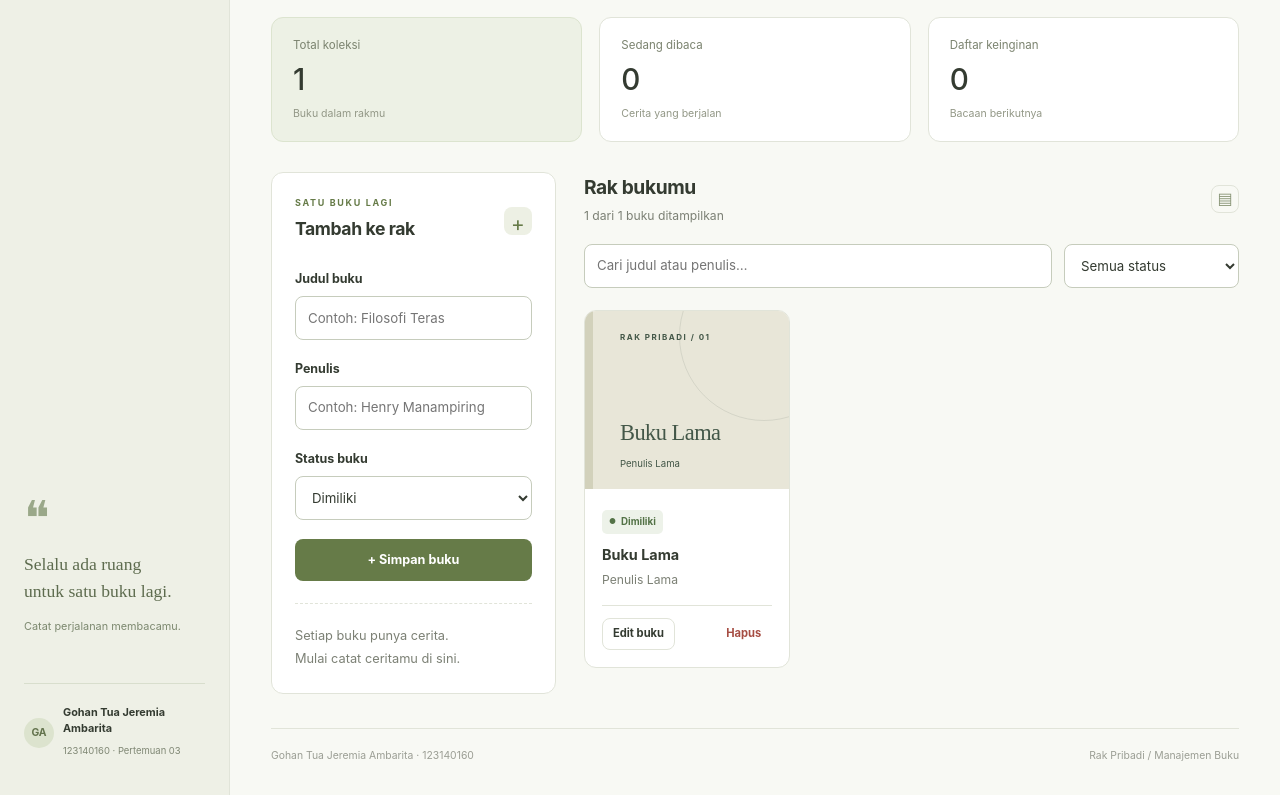
Test case: mengedit buku dan mempertahankan ID serta tanggal pencatatan
(page scrolled)
Click the button with aria-label "Edit Buku Lama".
click(639, 634)  # box [602, 618, 675, 650]
(page scrolled)
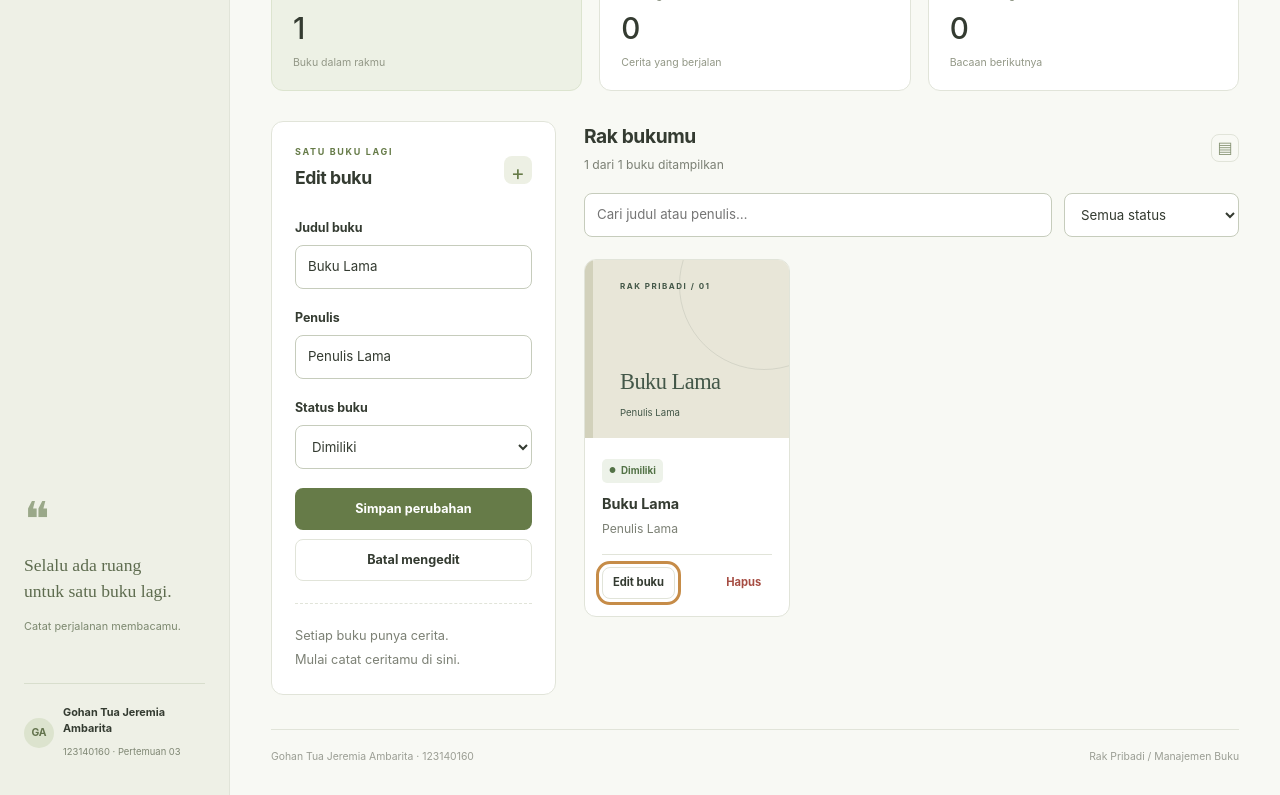
Replace the text in the field labelled "Judul buku" with "Buku Baru" at coordinates (414, 267), box [295, 245, 532, 289]
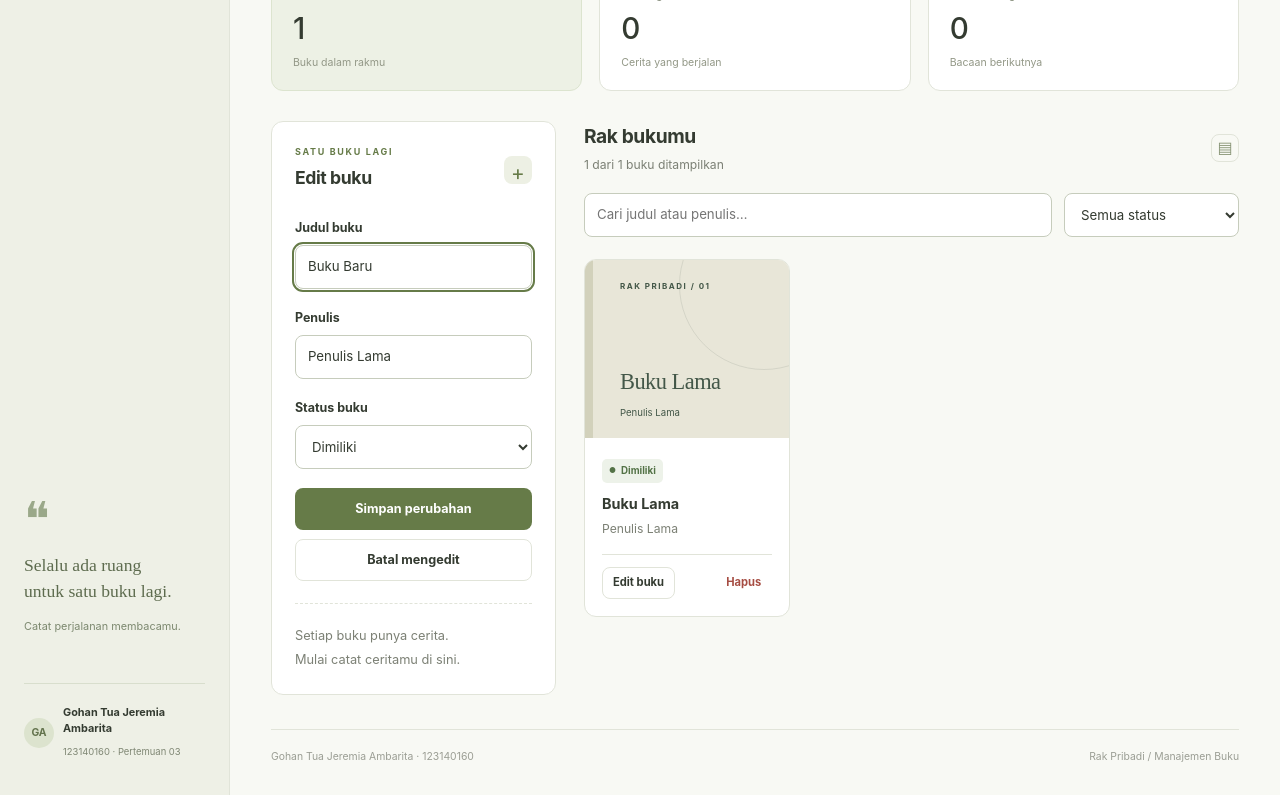
Replace the text in the field labelled "Penulis" with "Penulis Baru" at coordinates (414, 357), box [295, 335, 532, 379]
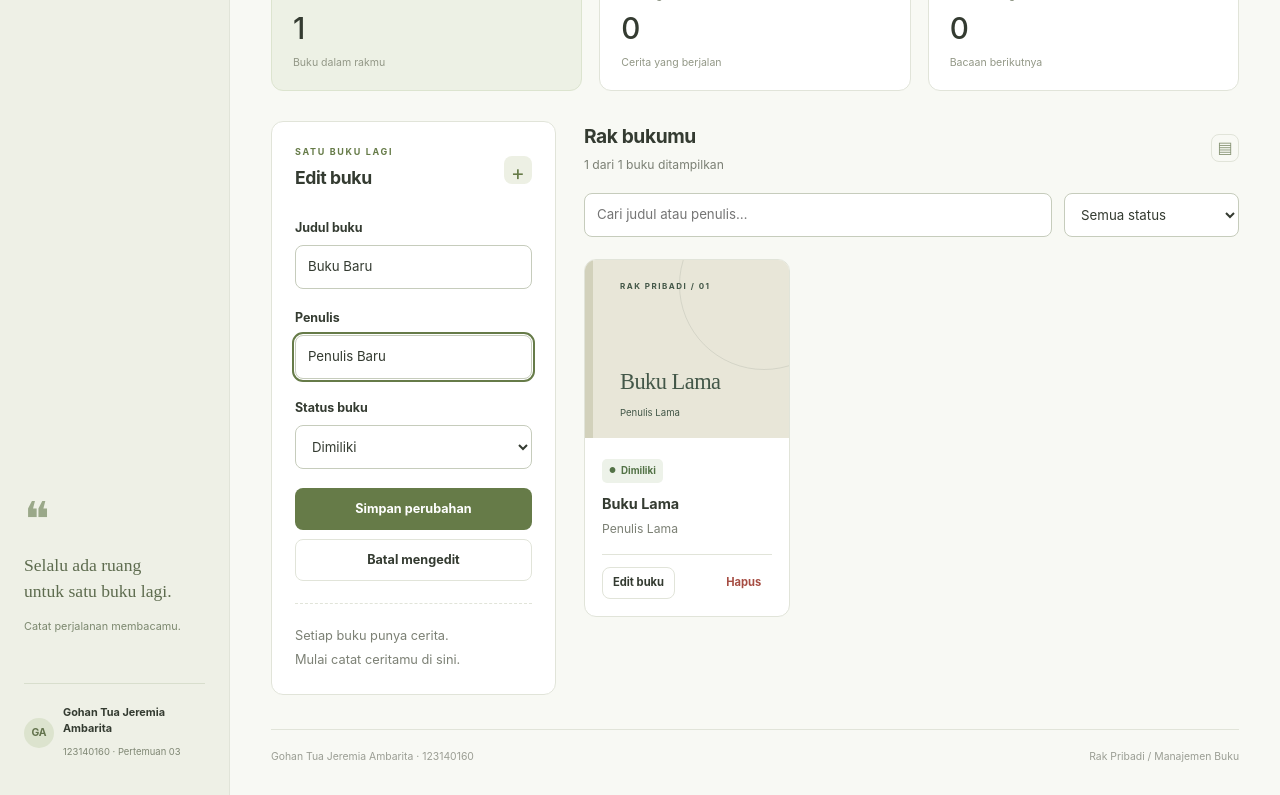
Select "Ingin dibeli" in the dropdown labelled "Status buku" at coordinates (414, 447), box [295, 425, 532, 469]
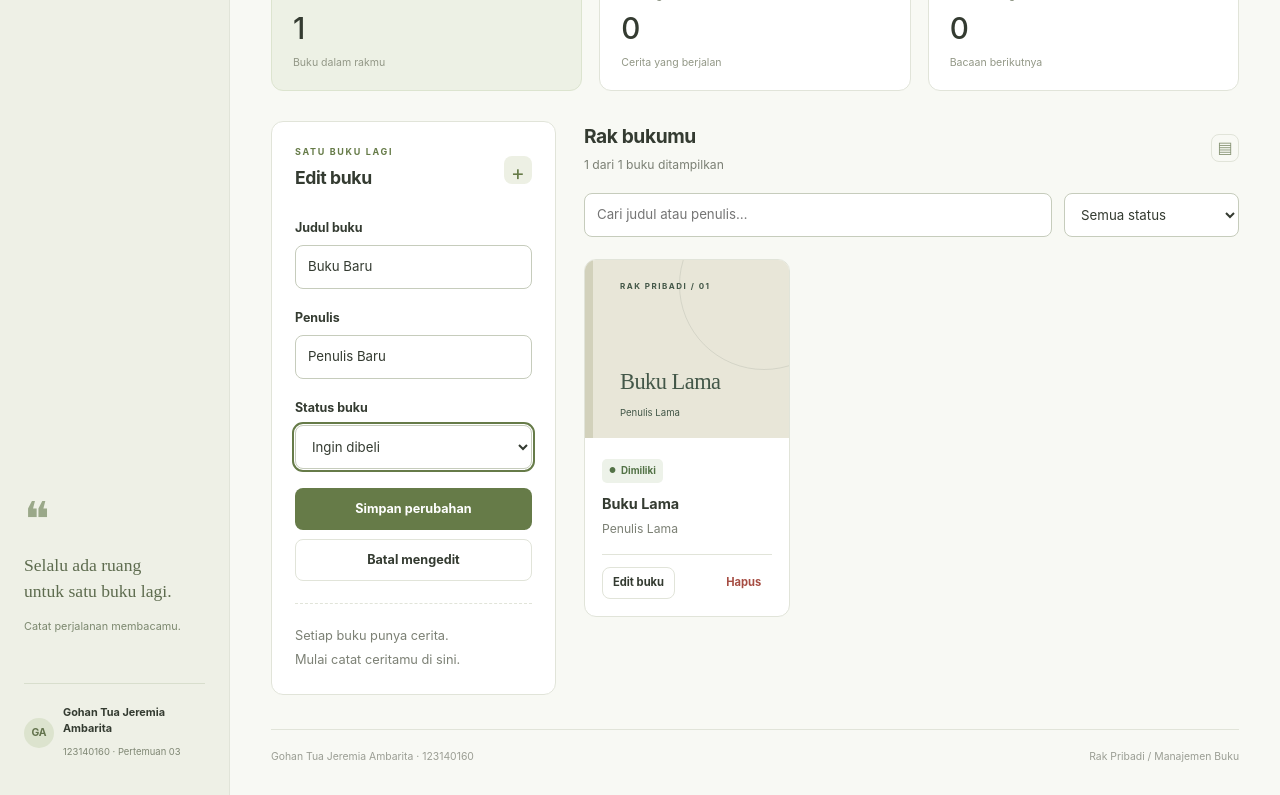
Click the button "Simpan perubahan".
click(414, 509)  # box [295, 488, 532, 530]
(page scrolled)
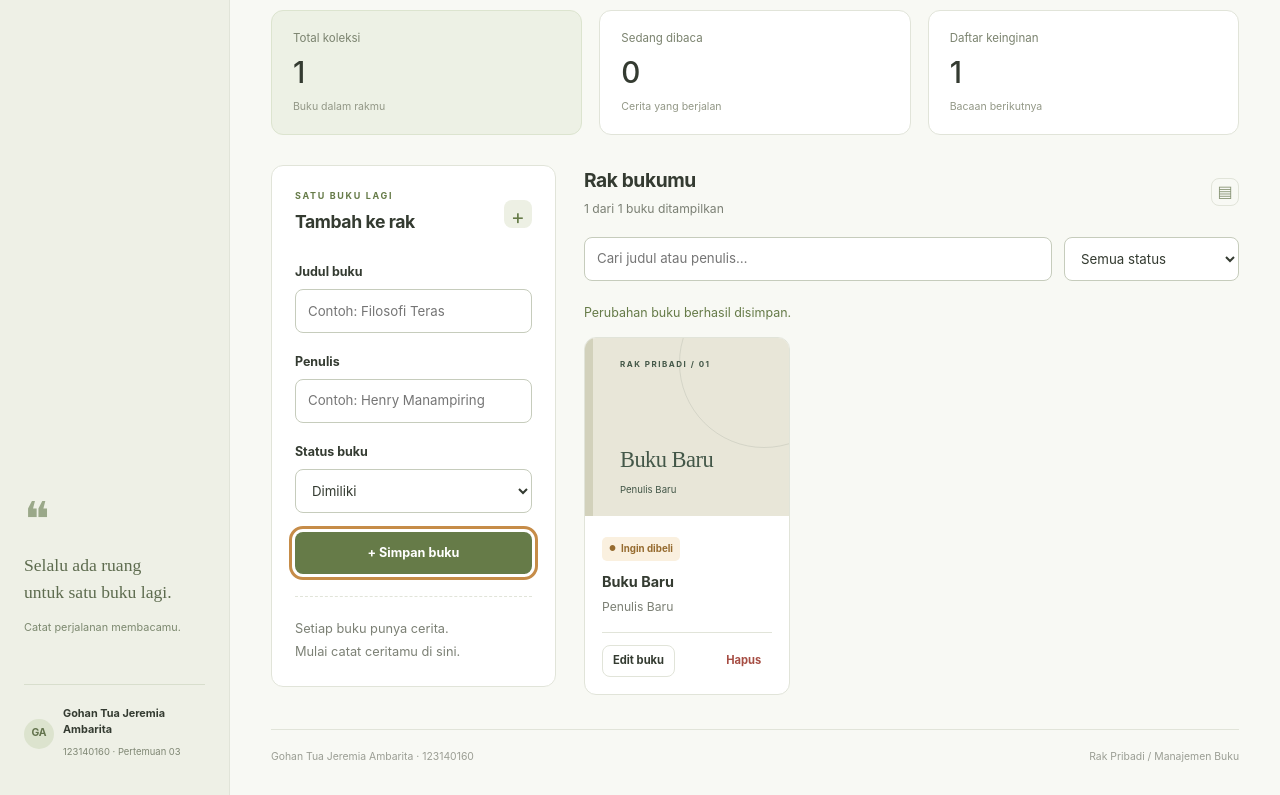
Check: the text "Buku Lama" is gone
Check: the heading "Buku Baru" is shown, box [602, 573, 674, 590]
